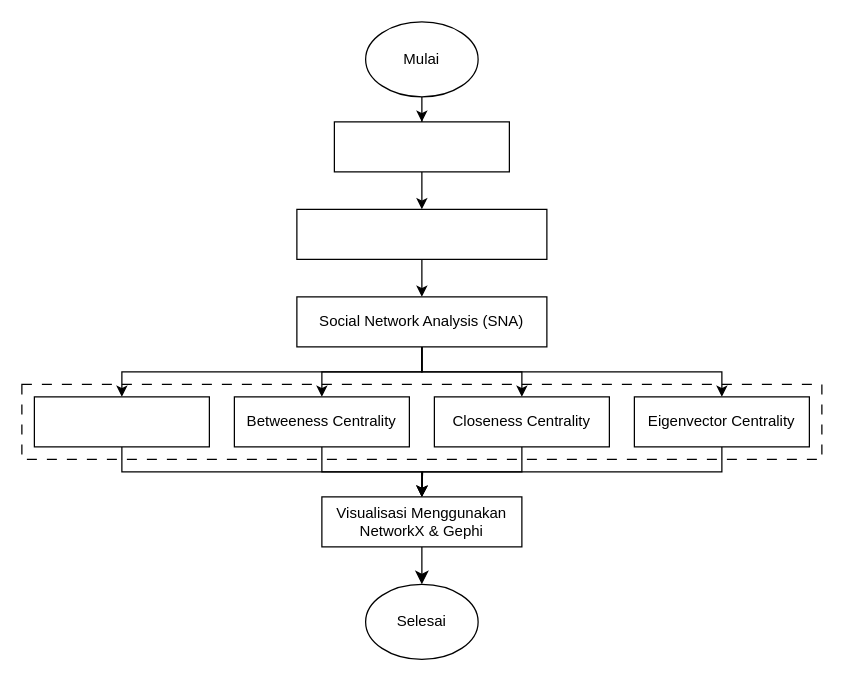
This 844x681 diagram has some shape labels left out. The shapes that lost their labels are listed below. From the top down, each one's centre as x and y in pixels, then its label:
pixel 421 146: Pengumpulan Data
pixel 421 233: Text-Preprocessing & Labeling
pixel 121 421: Degree Centrality
